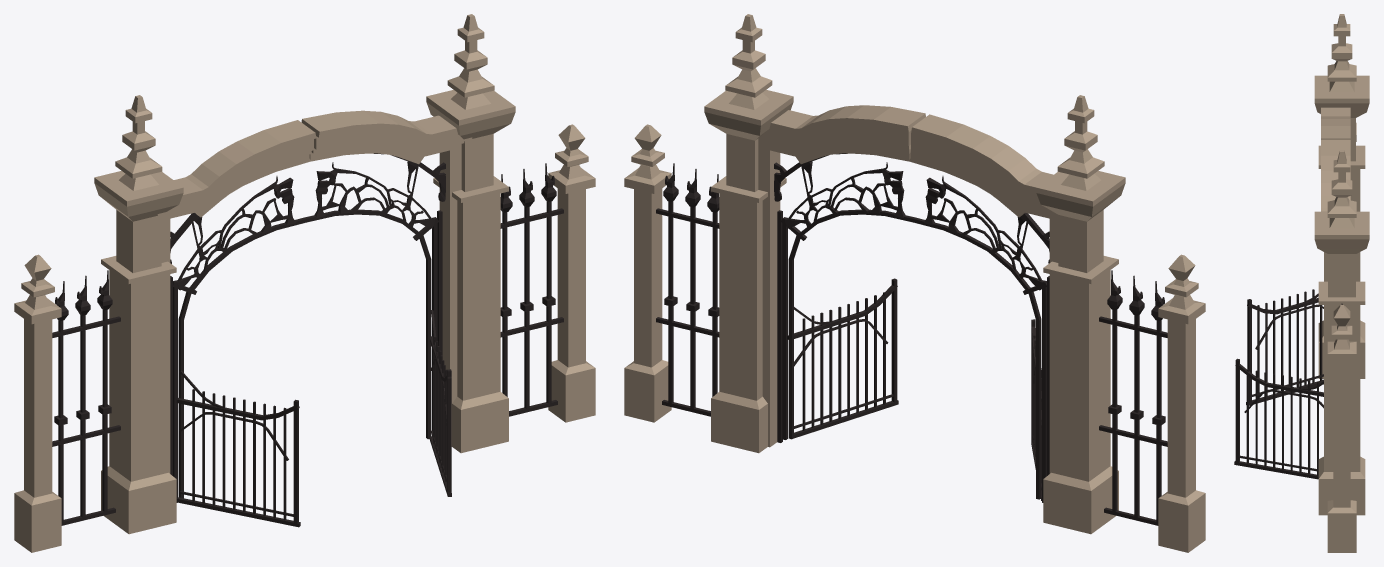
File: cemetaryGateB.gltf
3 views of the same model, side by side, from view 1: azimuth 30°, elevation 25°; view 2: azimuth 150°, elevation 25°; view 3: azimuth 270°, elevation 25° (orthographic). The views are drawn at different scales.
Visible parts, largest first — view 1: cemetaryGateA; view 2: cemetaryGateA; view 3: cemetaryGateA.
Part boxes in pixels (box(x1,y1,x2,y2)): cemetaryGateA: box(14, 14, 595, 552); cemetaryGateA: box(624, 14, 1205, 552); cemetaryGateA: box(1234, 14, 1369, 552).
Size of what is drawn, in the model's own units: 6.47 by 4.62 by 1.6.
Materials: 1 (1 with a texture image).
